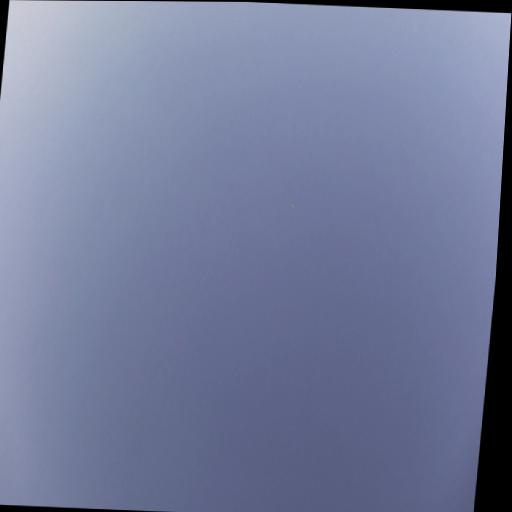drones: (290, 201, 296, 211)
